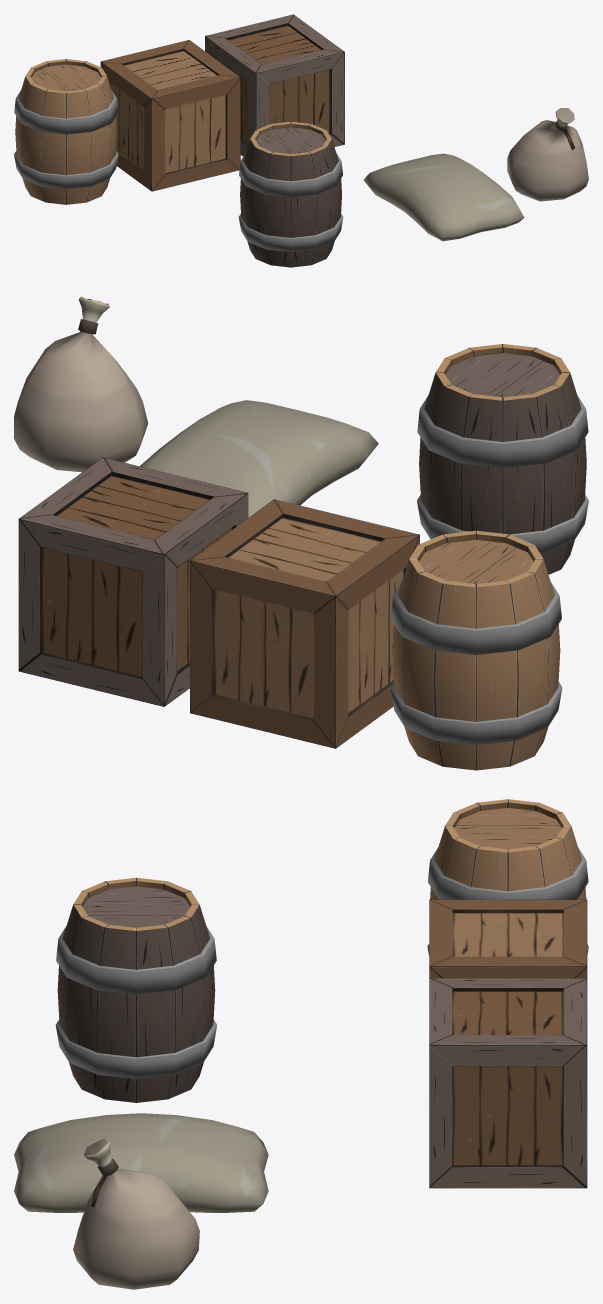
The model's file is props_barrel_02.glb.
The picture shows the model from 3 angles, top to bottom: view 1: azimuth 30°, elevation 25°; view 2: azimuth 150°, elevation 25°; view 3: azimuth 270°, elevation 25°; orthographic projection. The views are drawn at different scales.
Visible parts, largest first — view 1: props_crate_01, props_barrel_01, props_barrel_02, props_crate_02, props_sack_01, props_sack_02; view 2: props_crate_01, props_crate_02, props_barrel_01, props_barrel_02, props_sack_01, props_sack_02; view 3: props_crate_02, props_barrel_02, props_sack_01, props_barrel_01, props_crate_01, props_sack_02.
Boxes of the visible parts, <box> form: props_crate_01: <box>100,40,240,191</box>; props_barrel_01: <box>14,59,118,204</box>; props_barrel_02: <box>238,121,343,267</box>; props_crate_02: <box>205,14,344,156</box>; props_sack_01: <box>363,153,524,241</box>; props_sack_02: <box>507,108,588,201</box>; props_crate_01: <box>190,499,419,748</box>; props_crate_02: <box>18,457,248,706</box>; props_barrel_01: <box>390,530,562,770</box>; props_barrel_02: <box>417,344,588,574</box>; props_sack_01: <box>140,400,378,517</box>; props_sack_02: <box>14,296,148,472</box>; props_crate_02: <box>429,978,587,1188</box>; props_barrel_02: <box>55,877,216,1102</box>; props_sack_01: <box>14,1113,268,1212</box>; props_barrel_01: <box>427,799,588,956</box>; props_crate_01: <box>429,899,587,978</box>; props_sack_02: <box>73,1138,199,1289</box>.
Size of the model in its own units: 4.24 by 1.02 by 3.09.
Materials: 1 (1 with a texture image).
